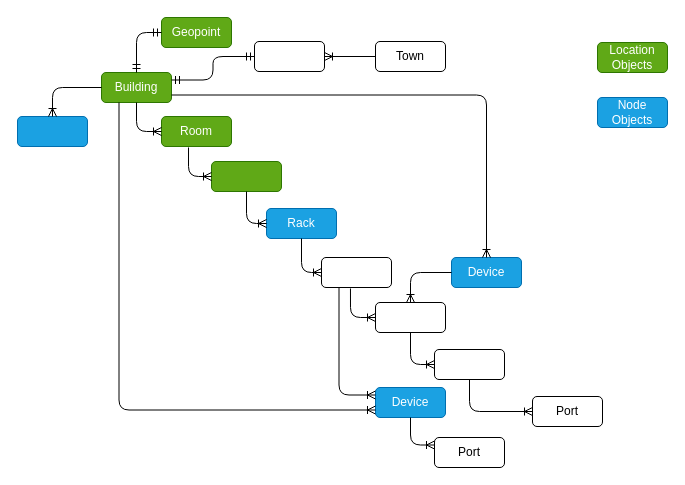
Some shapes in this 685 by 485 pixel diagram are drawn without their labels. Each missing label, with the centre of its shape:
Address: (289,56)
Card: (469,364)
Rackshelf: (356,272)
Row: (246,176)
Slotshelf: (410,317)
Station: (52,131)
